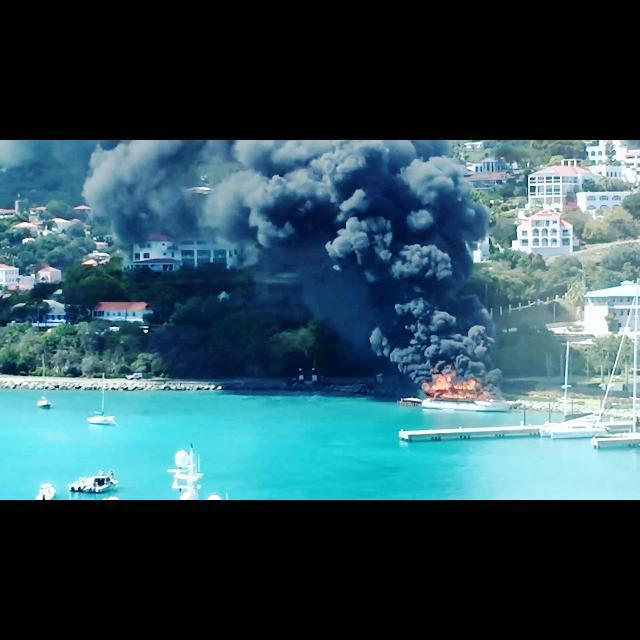Fire: (434, 375, 488, 405)
Smoke: (319, 160, 445, 312)
